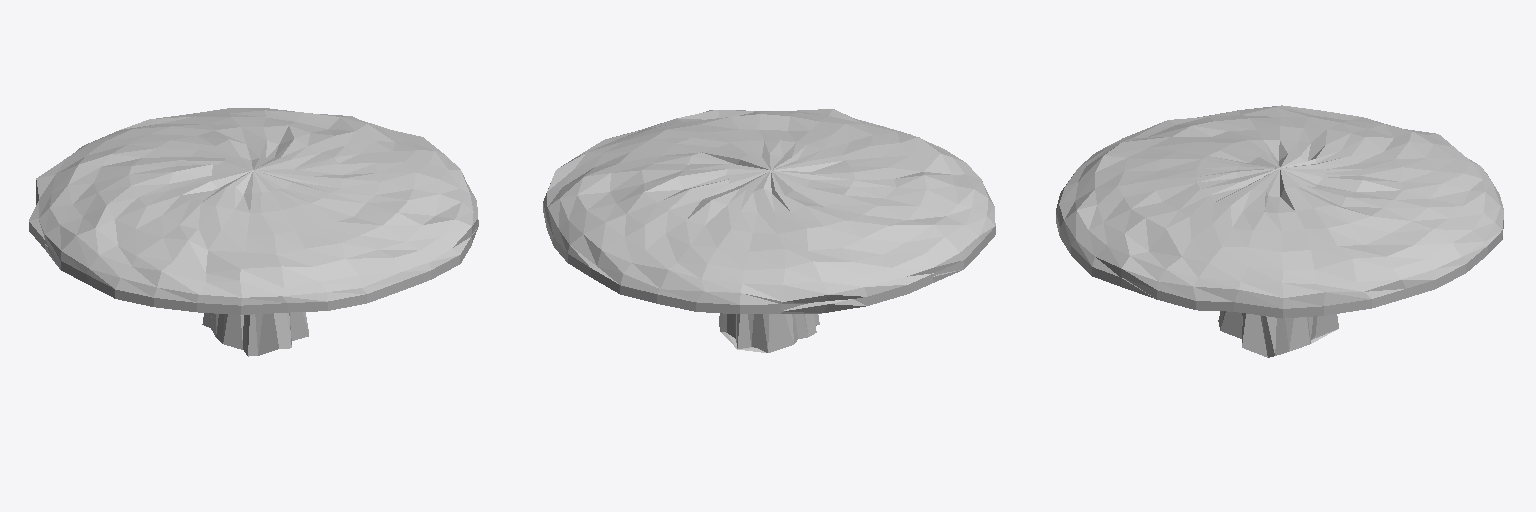
The model's file is smallmushroom3.obj.
The picture shows the model from 3 angles: view 1: azimuth 30°, elevation 25°; view 2: azimuth 150°, elevation 25°; view 3: azimuth 270°, elevation 25°; orthographic projection.
Parts seen in each view (by area): view 1: Sphere, Cylinder; view 2: Sphere, Cylinder; view 3: Sphere, Cylinder.
Boxes of the visible parts, <box> form: Sphere: <box>29,108,478,314</box>; Cylinder: <box>202,312,308,356</box>; Sphere: <box>543,109,995,314</box>; Cylinder: <box>719,313,819,352</box>; Sphere: <box>1056,105,1503,318</box>; Cylinder: <box>1218,311,1338,357</box>.
Bounding box in the file's own units: 2.02 × 0.8488 × 2.